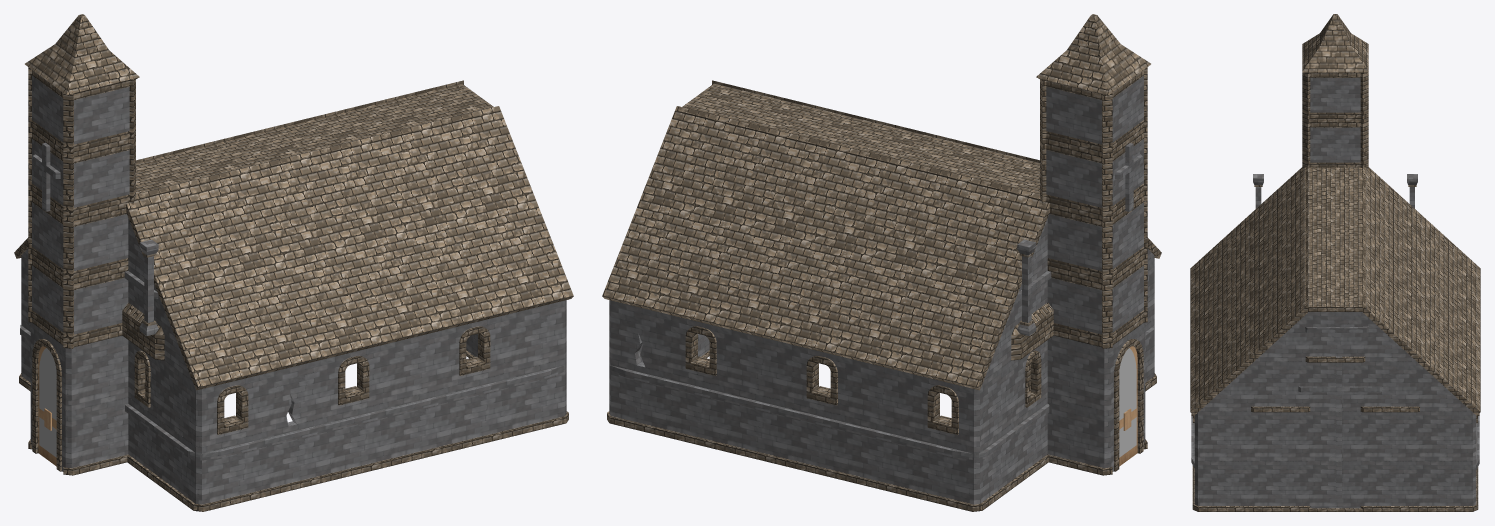
The model's file is churchv2.fbx.
3 views of the same model, side by side, from view 1: azimuth 30°, elevation 25°; view 2: azimuth 150°, elevation 25°; view 3: azimuth 270°, elevation 25° (orthographic). The views are drawn at different scales.
Visible parts, largest first — view 1: mergedBlocks; view 2: mergedBlocks; view 3: mergedBlocks.
Part boxes in pixels (x1,y1,x2,y2): mergedBlocks: (14,14,573,511); mergedBlocks: (602,14,1161,511); mergedBlocks: (1190,14,1480,511).
Bounding box in the file's own units: 72.28 × 69.06 × 52.83.
